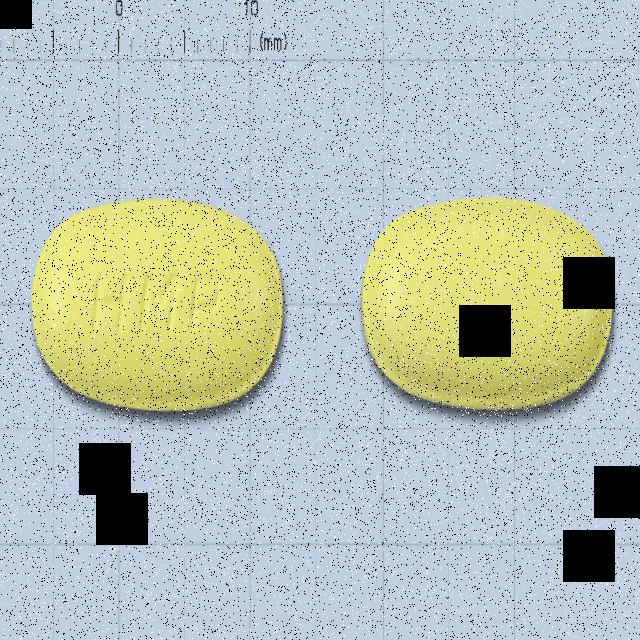Clari: (28, 192, 291, 420)
